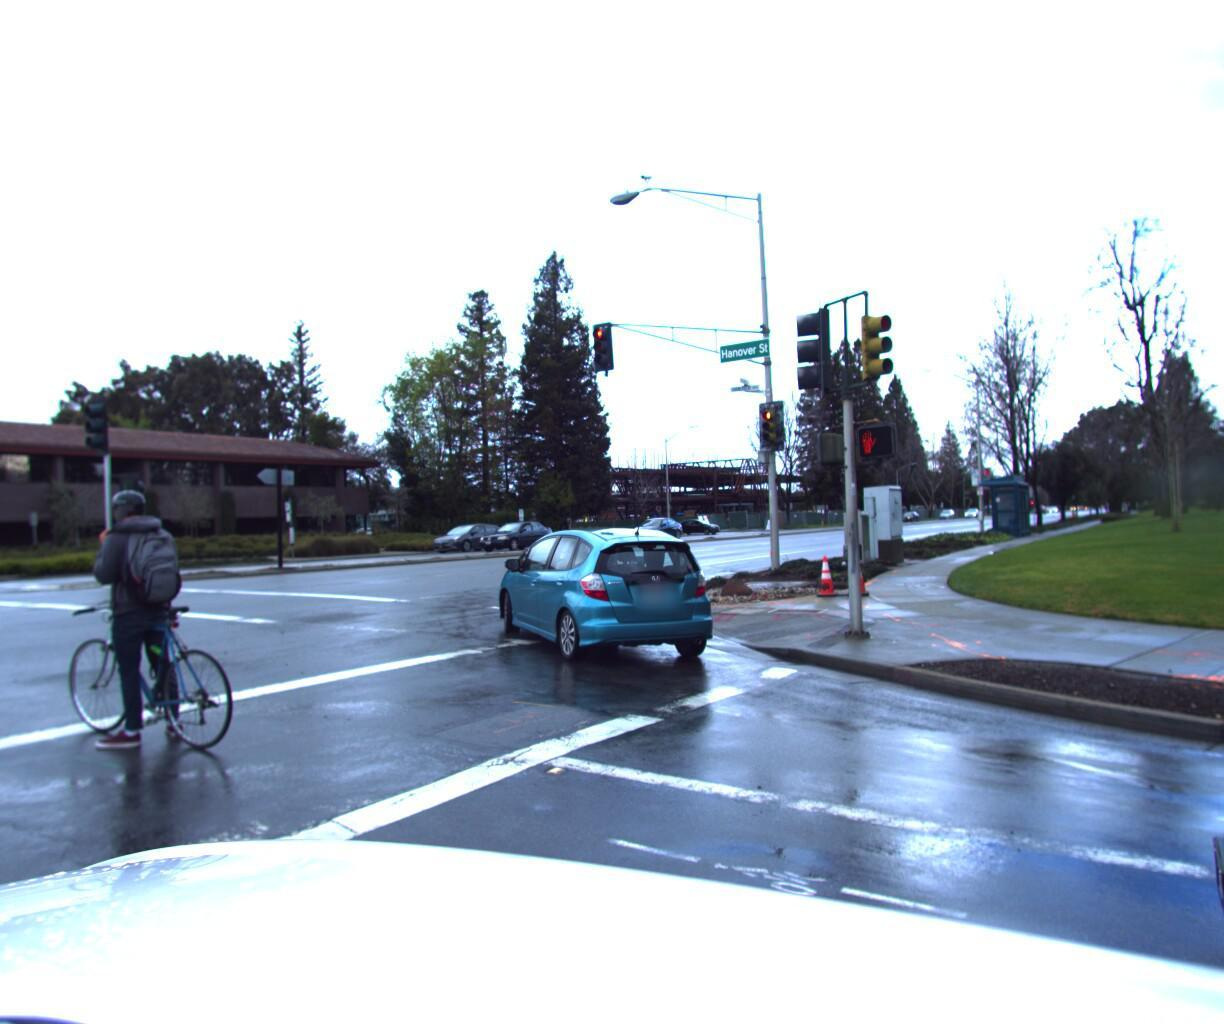bicycle: (0, 476, 263, 769)
car: (479, 513, 725, 665), (470, 517, 558, 551), (426, 519, 512, 552), (628, 513, 689, 539), (669, 516, 721, 537)
